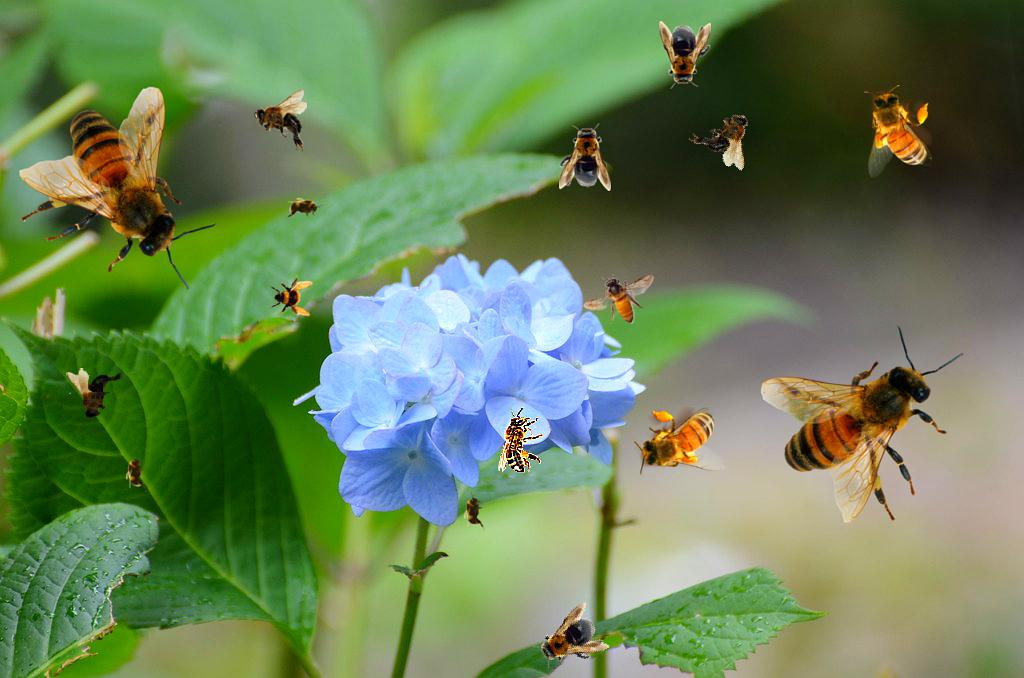Bee: (19, 86, 218, 290), (760, 324, 964, 523), (526, 601, 612, 678), (864, 85, 932, 178), (634, 407, 727, 475), (686, 96, 767, 174), (583, 274, 654, 324), (559, 123, 611, 191), (659, 21, 711, 89), (254, 90, 307, 152), (66, 368, 128, 421), (498, 407, 543, 473), (269, 274, 313, 318), (284, 197, 324, 219), (125, 452, 147, 492), (463, 491, 485, 531)
